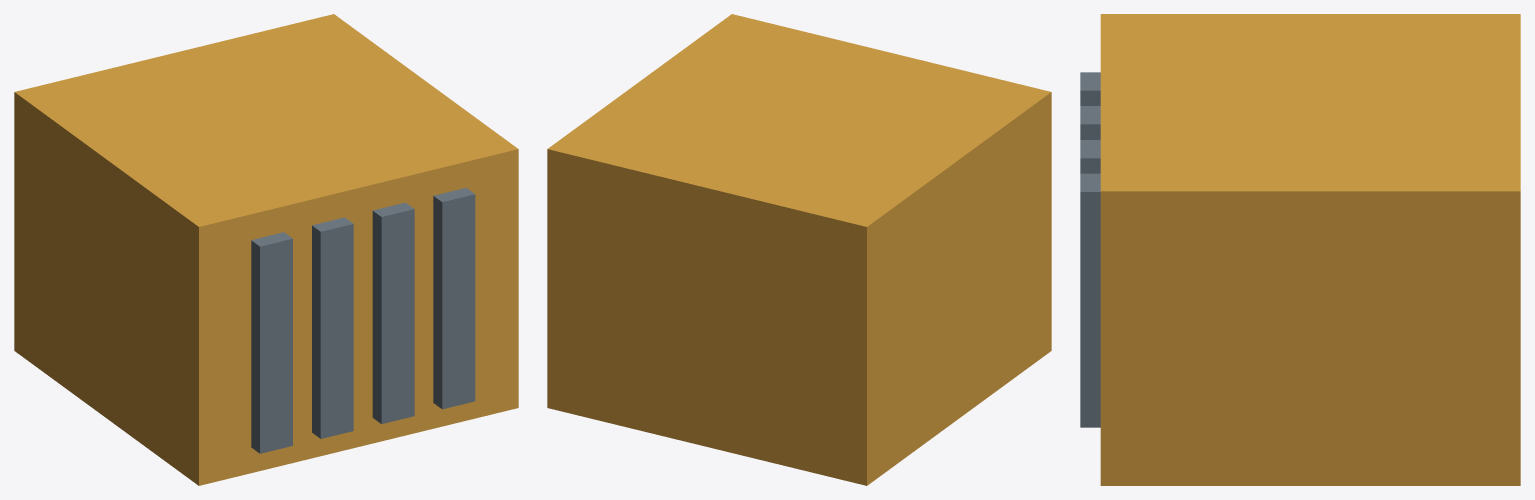
Rendered from curiosity_labs.cutaway.chemin.glb.
The picture shows the model from 3 angles, left to right: view 1: azimuth 30°, elevation 25°; view 2: azimuth 150°, elevation 25°; view 3: azimuth 270°, elevation 25°; orthographic projection. The views are drawn at different scales.
Parts seen in each view (by area): view 1: curiosity_labs.cutaway.chemin.mesh_Gold_thermal_insulation, curiosity_labs.cutaway.chemin.mesh_Machined_steel; view 2: curiosity_labs.cutaway.chemin.mesh_Gold_thermal_insulation; view 3: curiosity_labs.cutaway.chemin.mesh_Gold_thermal_insulation, curiosity_labs.cutaway.chemin.mesh_Machined_steel.
Boxes of the visible parts, box(x1,y1,x2,y2) form: curiosity_labs.cutaway.chemin.mesh_Gold_thermal_insulation: box(14, 14, 518, 485); curiosity_labs.cutaway.chemin.mesh_Machined_steel: box(251, 187, 475, 453); curiosity_labs.cutaway.chemin.mesh_Gold_thermal_insulation: box(547, 14, 1051, 485); curiosity_labs.cutaway.chemin.mesh_Gold_thermal_insulation: box(1100, 14, 1520, 485); curiosity_labs.cutaway.chemin.mesh_Machined_steel: box(1080, 72, 1100, 427).
Size of the model in its own units: 0.31 by 0.24 by 0.325.
